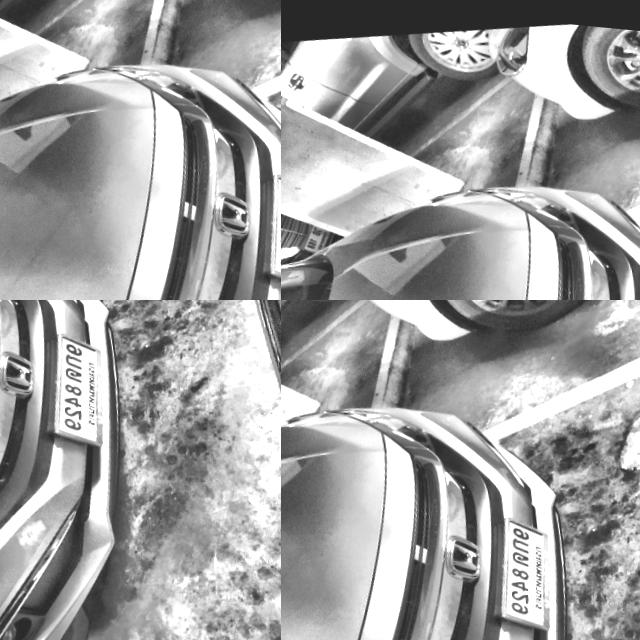license-plate: (484, 501, 568, 628)
